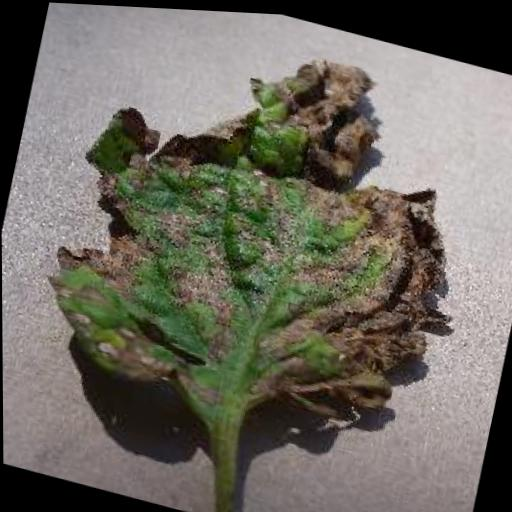Early Blight: (21, 1, 496, 468)
